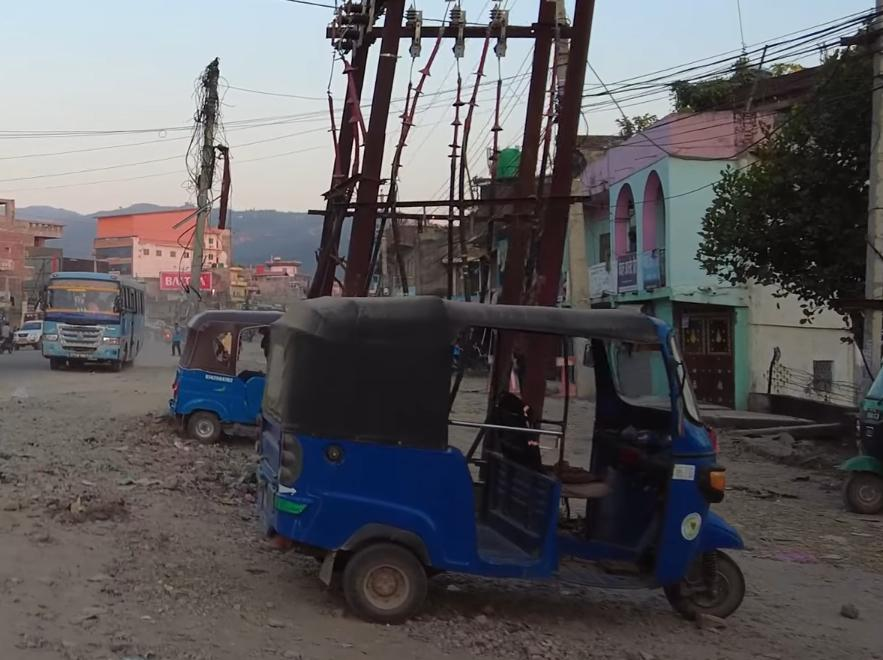auto_rickshaw: (258, 287, 753, 640), (169, 296, 298, 460)
bus: (42, 268, 149, 378)
